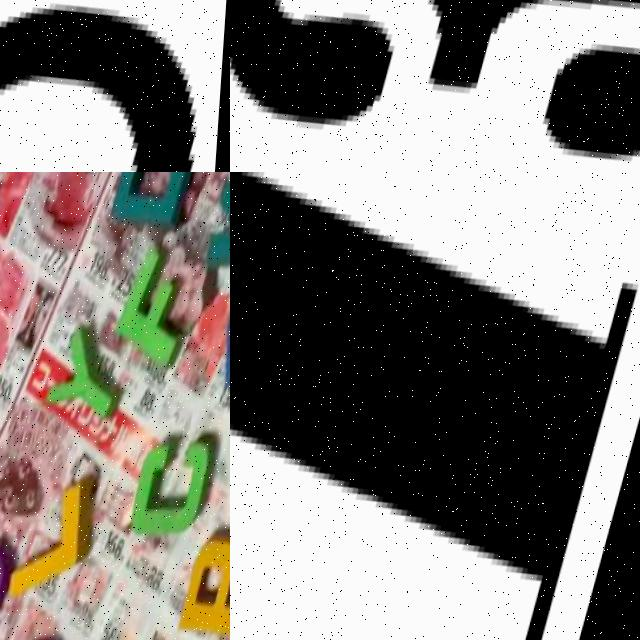3: (230, 0, 640, 172)
8: (0, 0, 230, 172)
C: (132, 428, 227, 551)
D: (103, 172, 200, 250)
F: (112, 244, 208, 373)
I: (230, 172, 632, 640)
K: (201, 172, 230, 290)
L: (10, 466, 115, 617)
R: (181, 527, 230, 640)
S: (0, 519, 26, 640)
Y: (45, 319, 139, 432)
